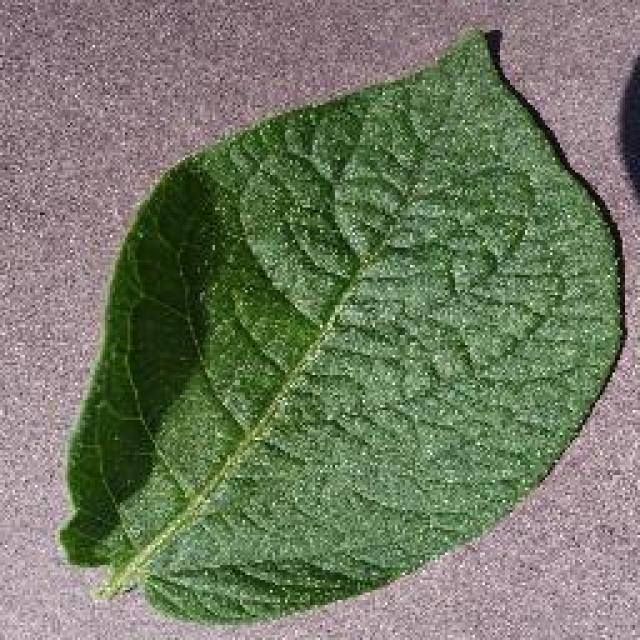Potato: (55, 25, 627, 625)
